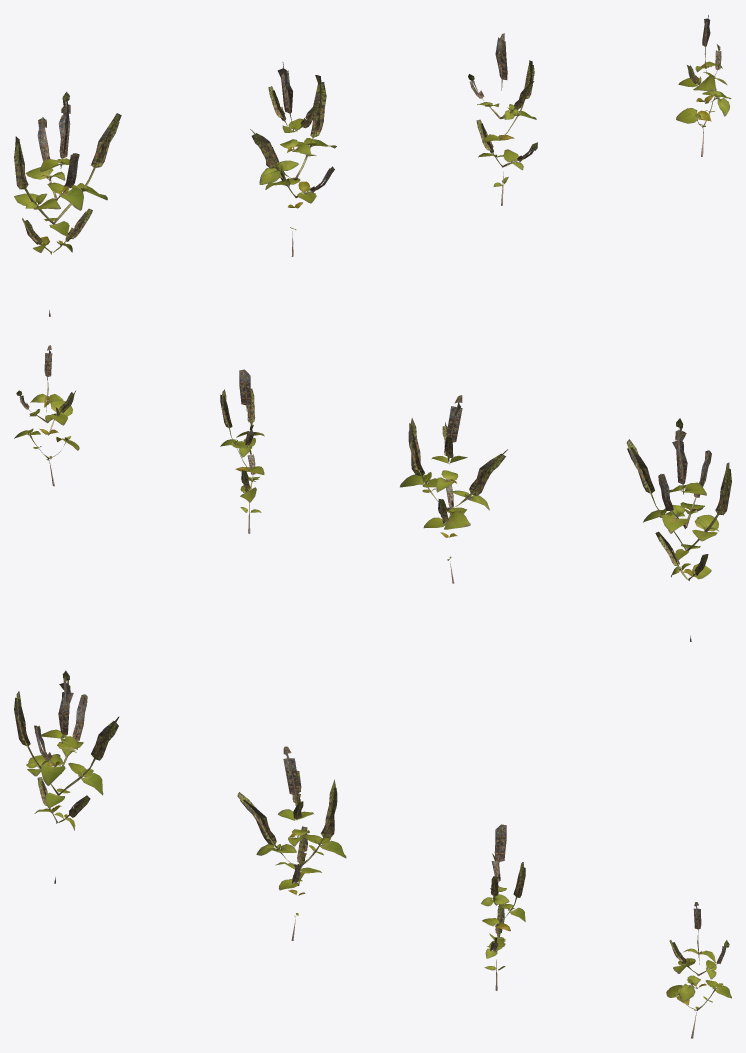
The model's file is shrub_03.f1193bad.glb.
The picture shows the model from 3 angles, top to bottom: view 1: azimuth 30°, elevation 25°; view 2: azimuth 150°, elevation 25°; view 3: azimuth 330°, elevation 25°; orthographic projection. The views are drawn at different scales.
Parts seen in each view (by area): view 1: shrub_03_a, shrub_03_b, shrub_03_c, shrub_03_d; view 2: shrub_03_a, shrub_03_b, shrub_03_c, shrub_03_d; view 3: shrub_03_a, shrub_03_b, shrub_03_c, shrub_03_d.
Part boxes in pixels (x1,y1,x2,y2): shrub_03_a: [14, 91, 121, 316]; shrub_03_b: [250, 62, 336, 256]; shrub_03_c: [468, 33, 537, 205]; shrub_03_d: [676, 15, 731, 156]; shrub_03_a: [626, 418, 731, 641]; shrub_03_b: [400, 395, 507, 583]; shrub_03_c: [220, 369, 264, 533]; shrub_03_d: [14, 345, 79, 486]; shrub_03_a: [14, 670, 118, 883]; shrub_03_b: [237, 746, 346, 940]; shrub_03_c: [481, 824, 525, 990]; shrub_03_d: [666, 902, 731, 1038].
Bounding box in the file's own units: 1.37 × 0.4028 × 0.1512.
1 material, 1 textured.
